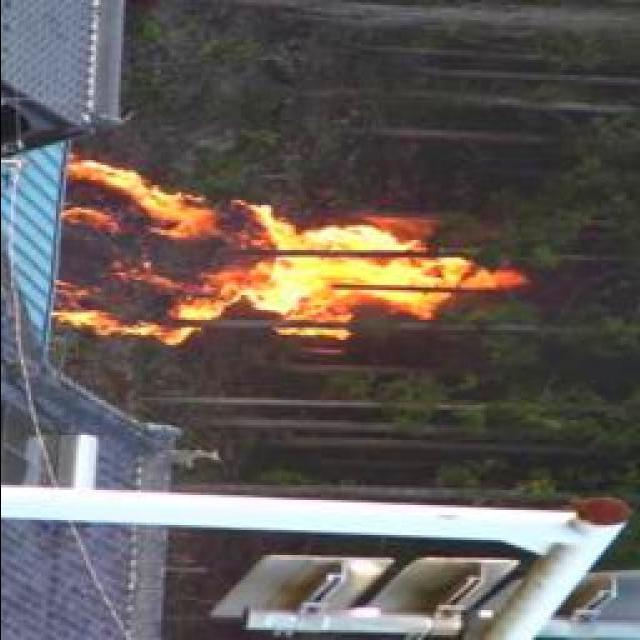Fire: (62, 158, 526, 354)
